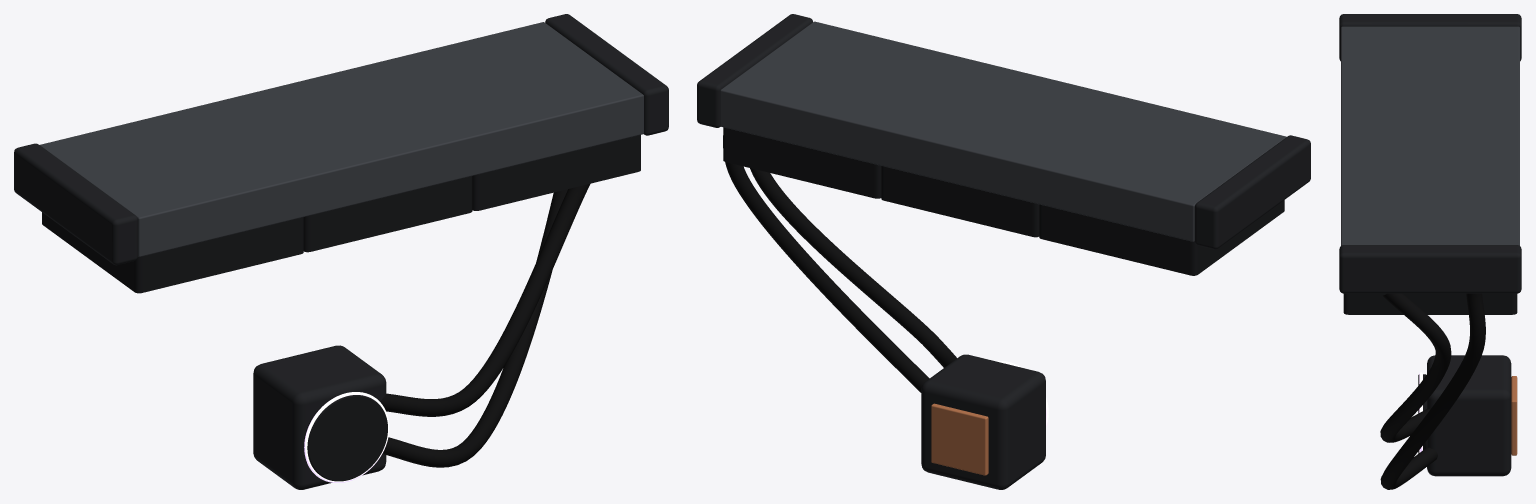
Rendered from 9834e59d-4f80-495f-bb60-288e6c60aac1.glb.
The picture shows the model from 3 angles, left to right: view 1: azimuth 30°, elevation 25°; view 2: azimuth 150°, elevation 25°; view 3: azimuth 270°, elevation 25°; orthographic projection. The views are drawn at different scales.
Parts seen in each view (by area): view 1: AIO_Radiator_Core, AIO_Pump_Housing, AIO_Fan_01_Frame, AIO_Radiator_Tank_A, AIO_Fan_02_Frame, AIO_Fan_03_Frame, AIO_Tube_02, AIO_Pump_Cap, AIO_Tube_01, AIO_Radiator_Tank_B, AIO_Pump_RGBRing; view 2: AIO_Radiator_Core, AIO_Pump_Housing, AIO_Fan_01_Frame, AIO_Radiator_Tank_A, AIO_Fan_03_Frame, AIO_Fan_02_Frame, AIO_Tube_01, AIO_Tube_02, AIO_Pump_ColdPlate, AIO_Radiator_Tank_B; view 3: AIO_Radiator_Core, AIO_Radiator_Tank_B, AIO_Pump_Housing, AIO_Tube_01, AIO_Tube_02, AIO_Fan_03_Frame, AIO_Radiator_Tank_A, AIO_Pump_ColdPlate.
Boxes of the visible parts, x1,y1,x2,y2 form: AIO_Radiator_Core: [40, 22, 643, 256]; AIO_Pump_Housing: [253, 345, 386, 489]; AIO_Fan_01_Frame: [42, 212, 303, 293]; AIO_Radiator_Tank_A: [14, 143, 137, 265]; AIO_Fan_02_Frame: [303, 176, 472, 252]; AIO_Fan_03_Frame: [472, 135, 640, 210]; AIO_Tube_02: [380, 183, 590, 416]; AIO_Pump_Cap: [304, 393, 387, 481]; AIO_Tube_01: [382, 189, 567, 467]; AIO_Radiator_Tank_B: [545, 14, 668, 135]; AIO_Pump_RGBRing: [304, 392, 389, 482]; AIO_Radiator_Core: [720, 21, 1286, 241]; AIO_Pump_Housing: [921, 354, 1045, 489]; AIO_Fan_01_Frame: [1039, 200, 1284, 275]; AIO_Radiator_Tank_A: [1194, 135, 1310, 249]; AIO_Fan_03_Frame: [723, 127, 881, 198]; AIO_Fan_02_Frame: [881, 166, 1039, 237]; AIO_Tube_01: [723, 135, 929, 392]; AIO_Tube_02: [750, 168, 956, 367]; AIO_Pump_ColdPlate: [931, 403, 988, 475]; AIO_Radiator_Tank_B: [697, 14, 812, 127]; AIO_Radiator_Core: [1341, 26, 1519, 245]; AIO_Radiator_Tank_B: [1339, 245, 1521, 293]; AIO_Pump_Housing: [1427, 355, 1511, 476]; AIO_Tube_01: [1380, 293, 1485, 489]; AIO_Tube_02: [1380, 293, 1451, 442]; AIO_Fan_03_Frame: [1343, 293, 1517, 314]; AIO_Radiator_Tank_A: [1339, 14, 1521, 61]; AIO_Pump_ColdPlate: [1511, 376, 1517, 455].
Size of the model in its own units: 0.396 by 0.2485 by 0.126.
